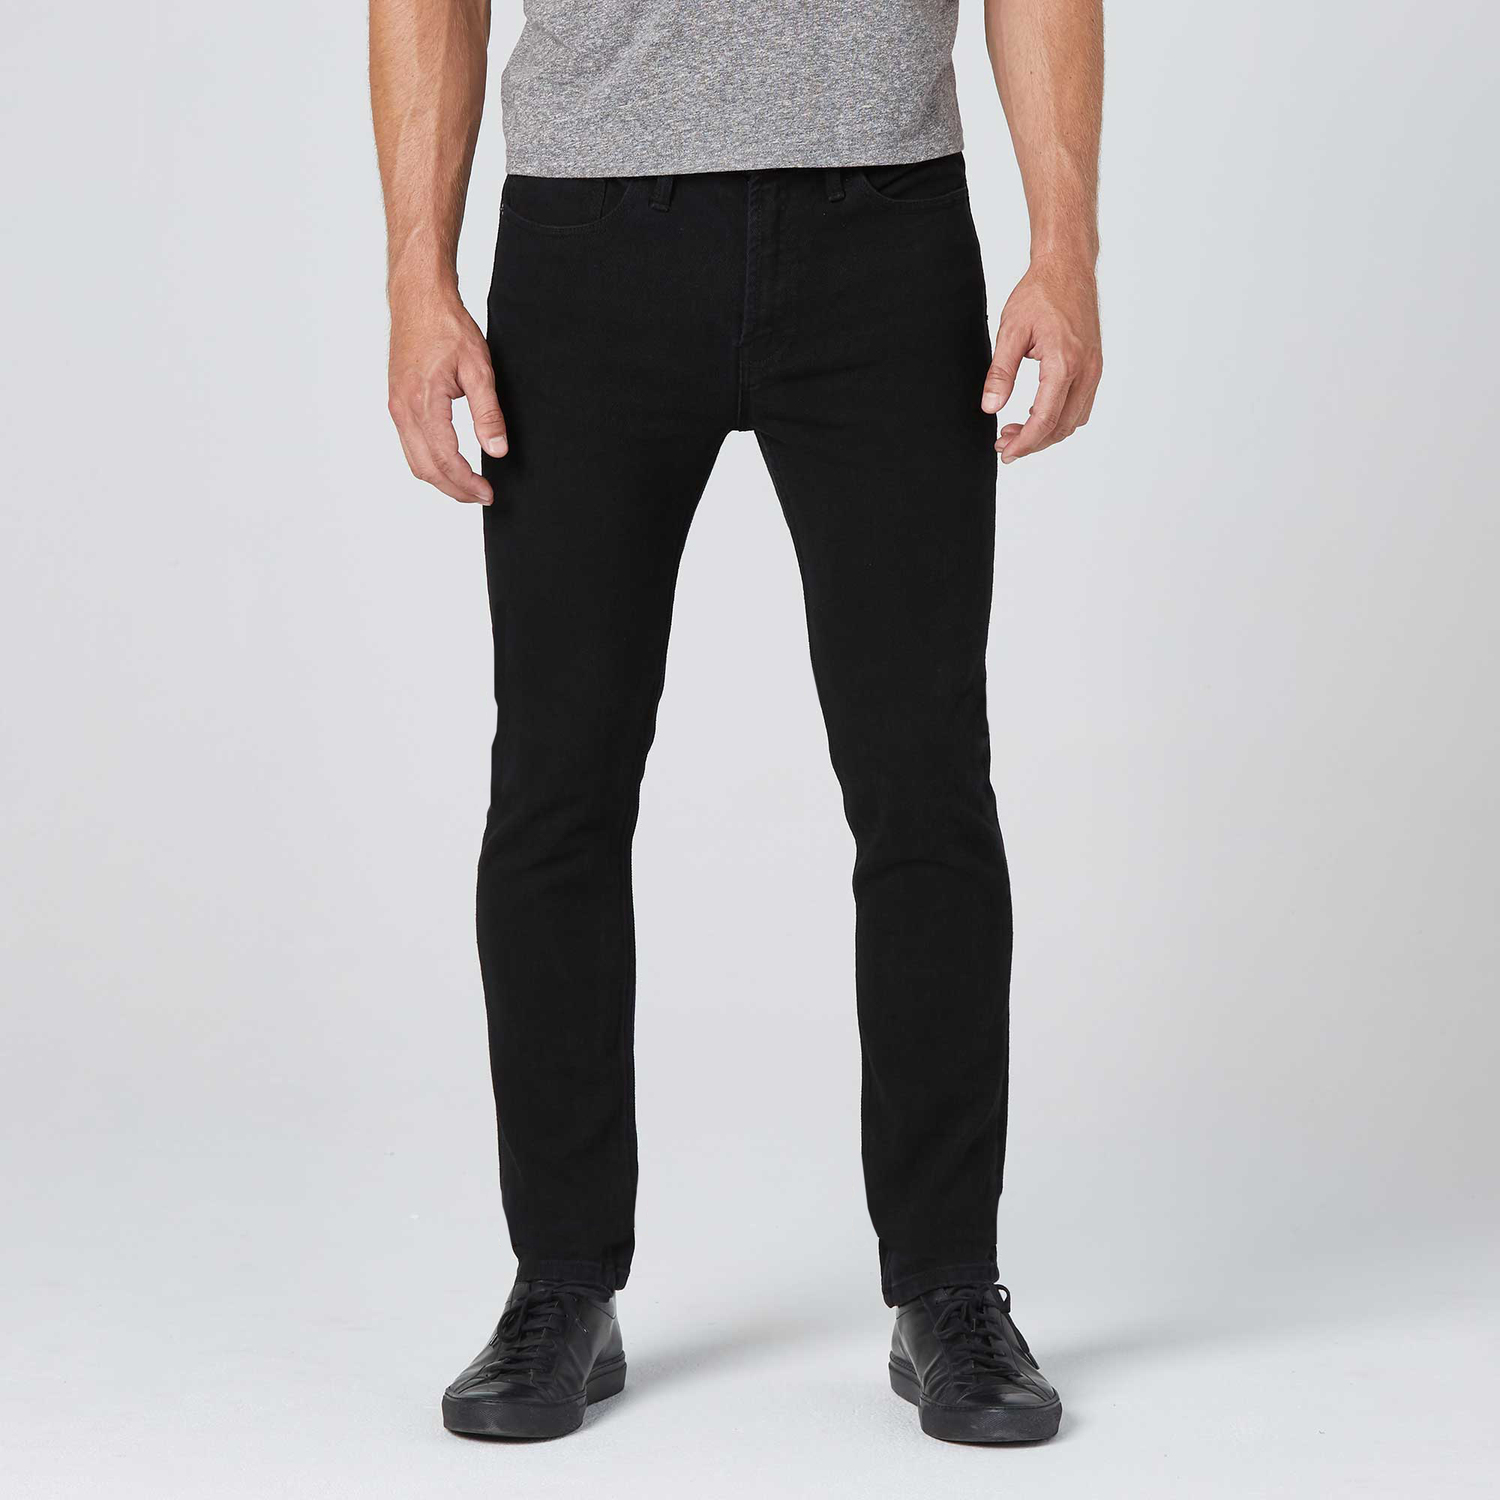jeans: (478, 174, 1008, 1304)
